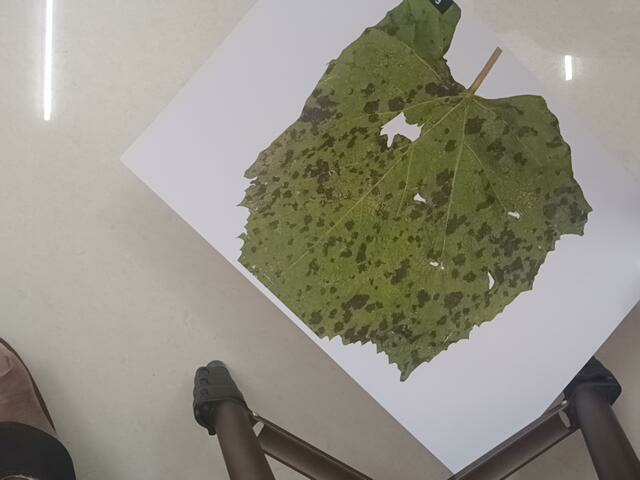Grape_Blight_Leaf: (238, 11, 601, 377)
